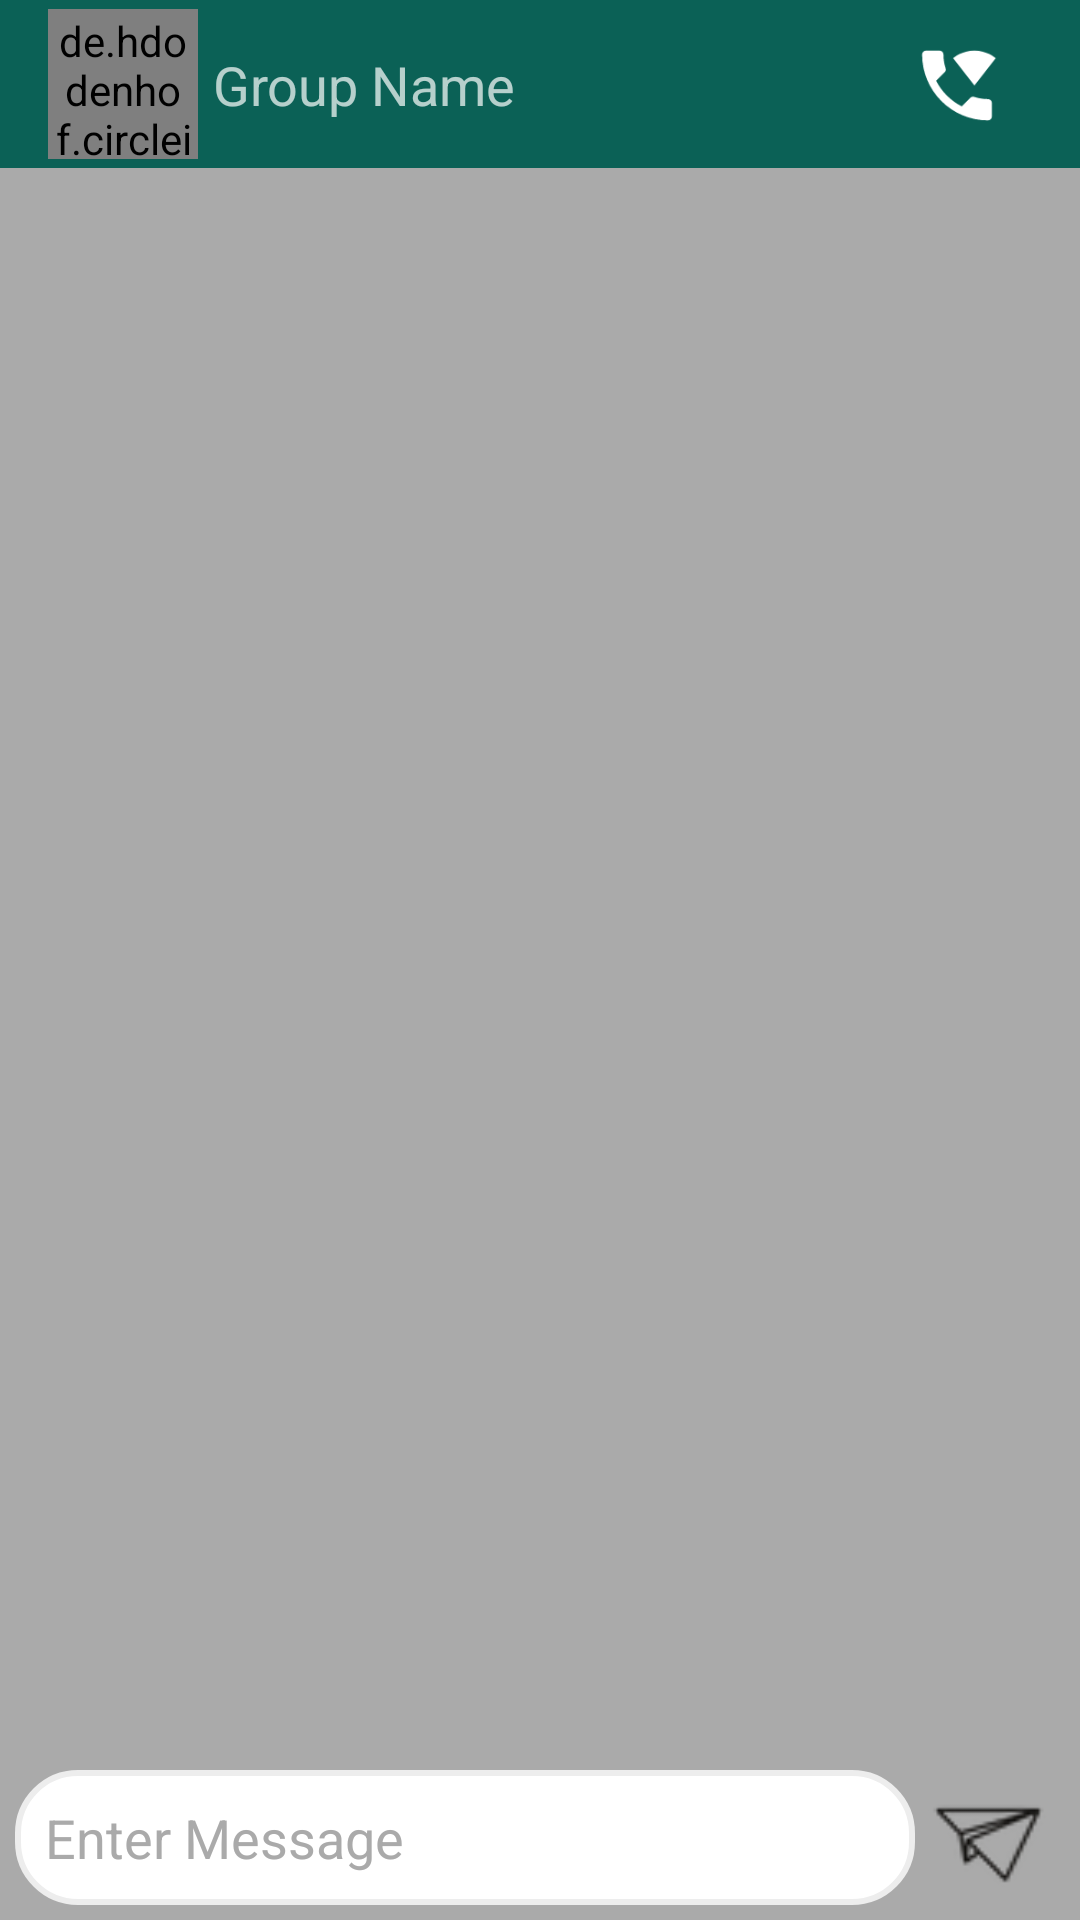

Icon bounding boxes for this 1080 x 1920 phone screenshot, format [left=x1, top=y1, right=x2, bottom=y2]:
call: [left=921, top=50, right=996, bottom=121]
send: [left=936, top=1807, right=1041, bottom=1882]
